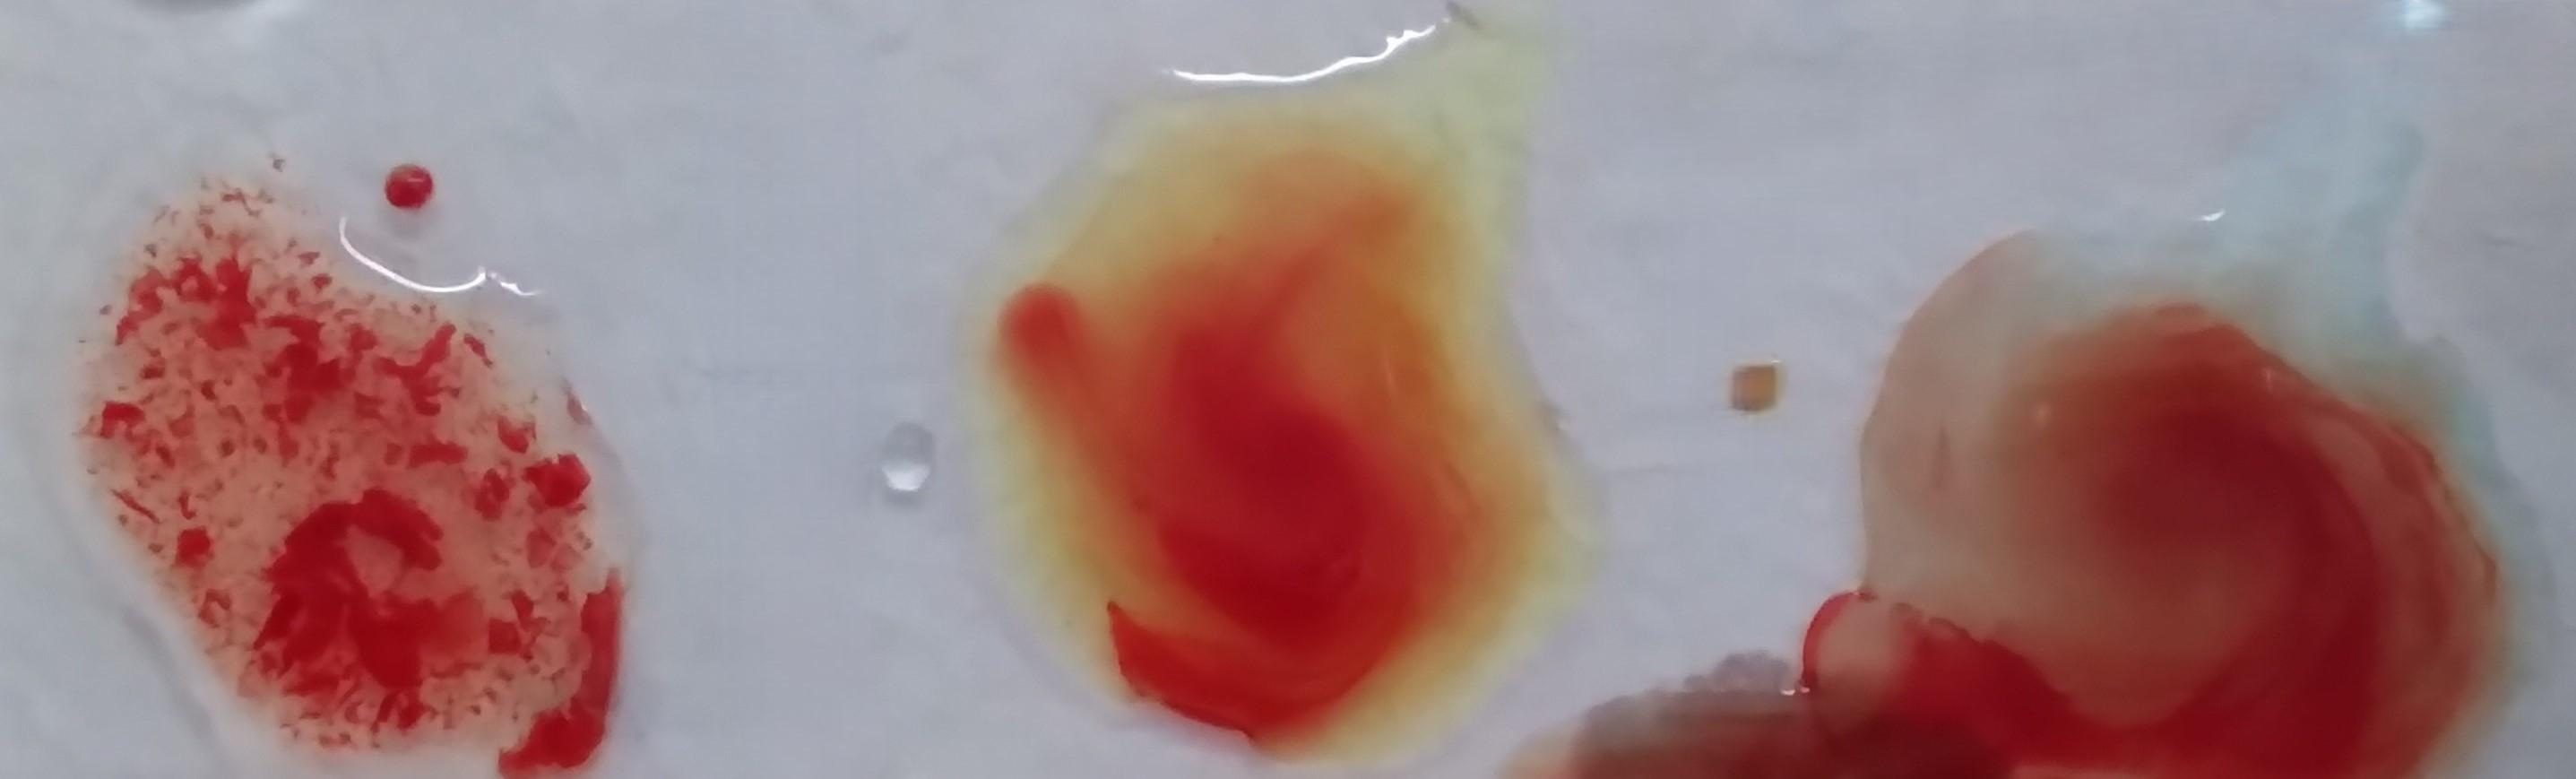D: (84, 196, 637, 779)
